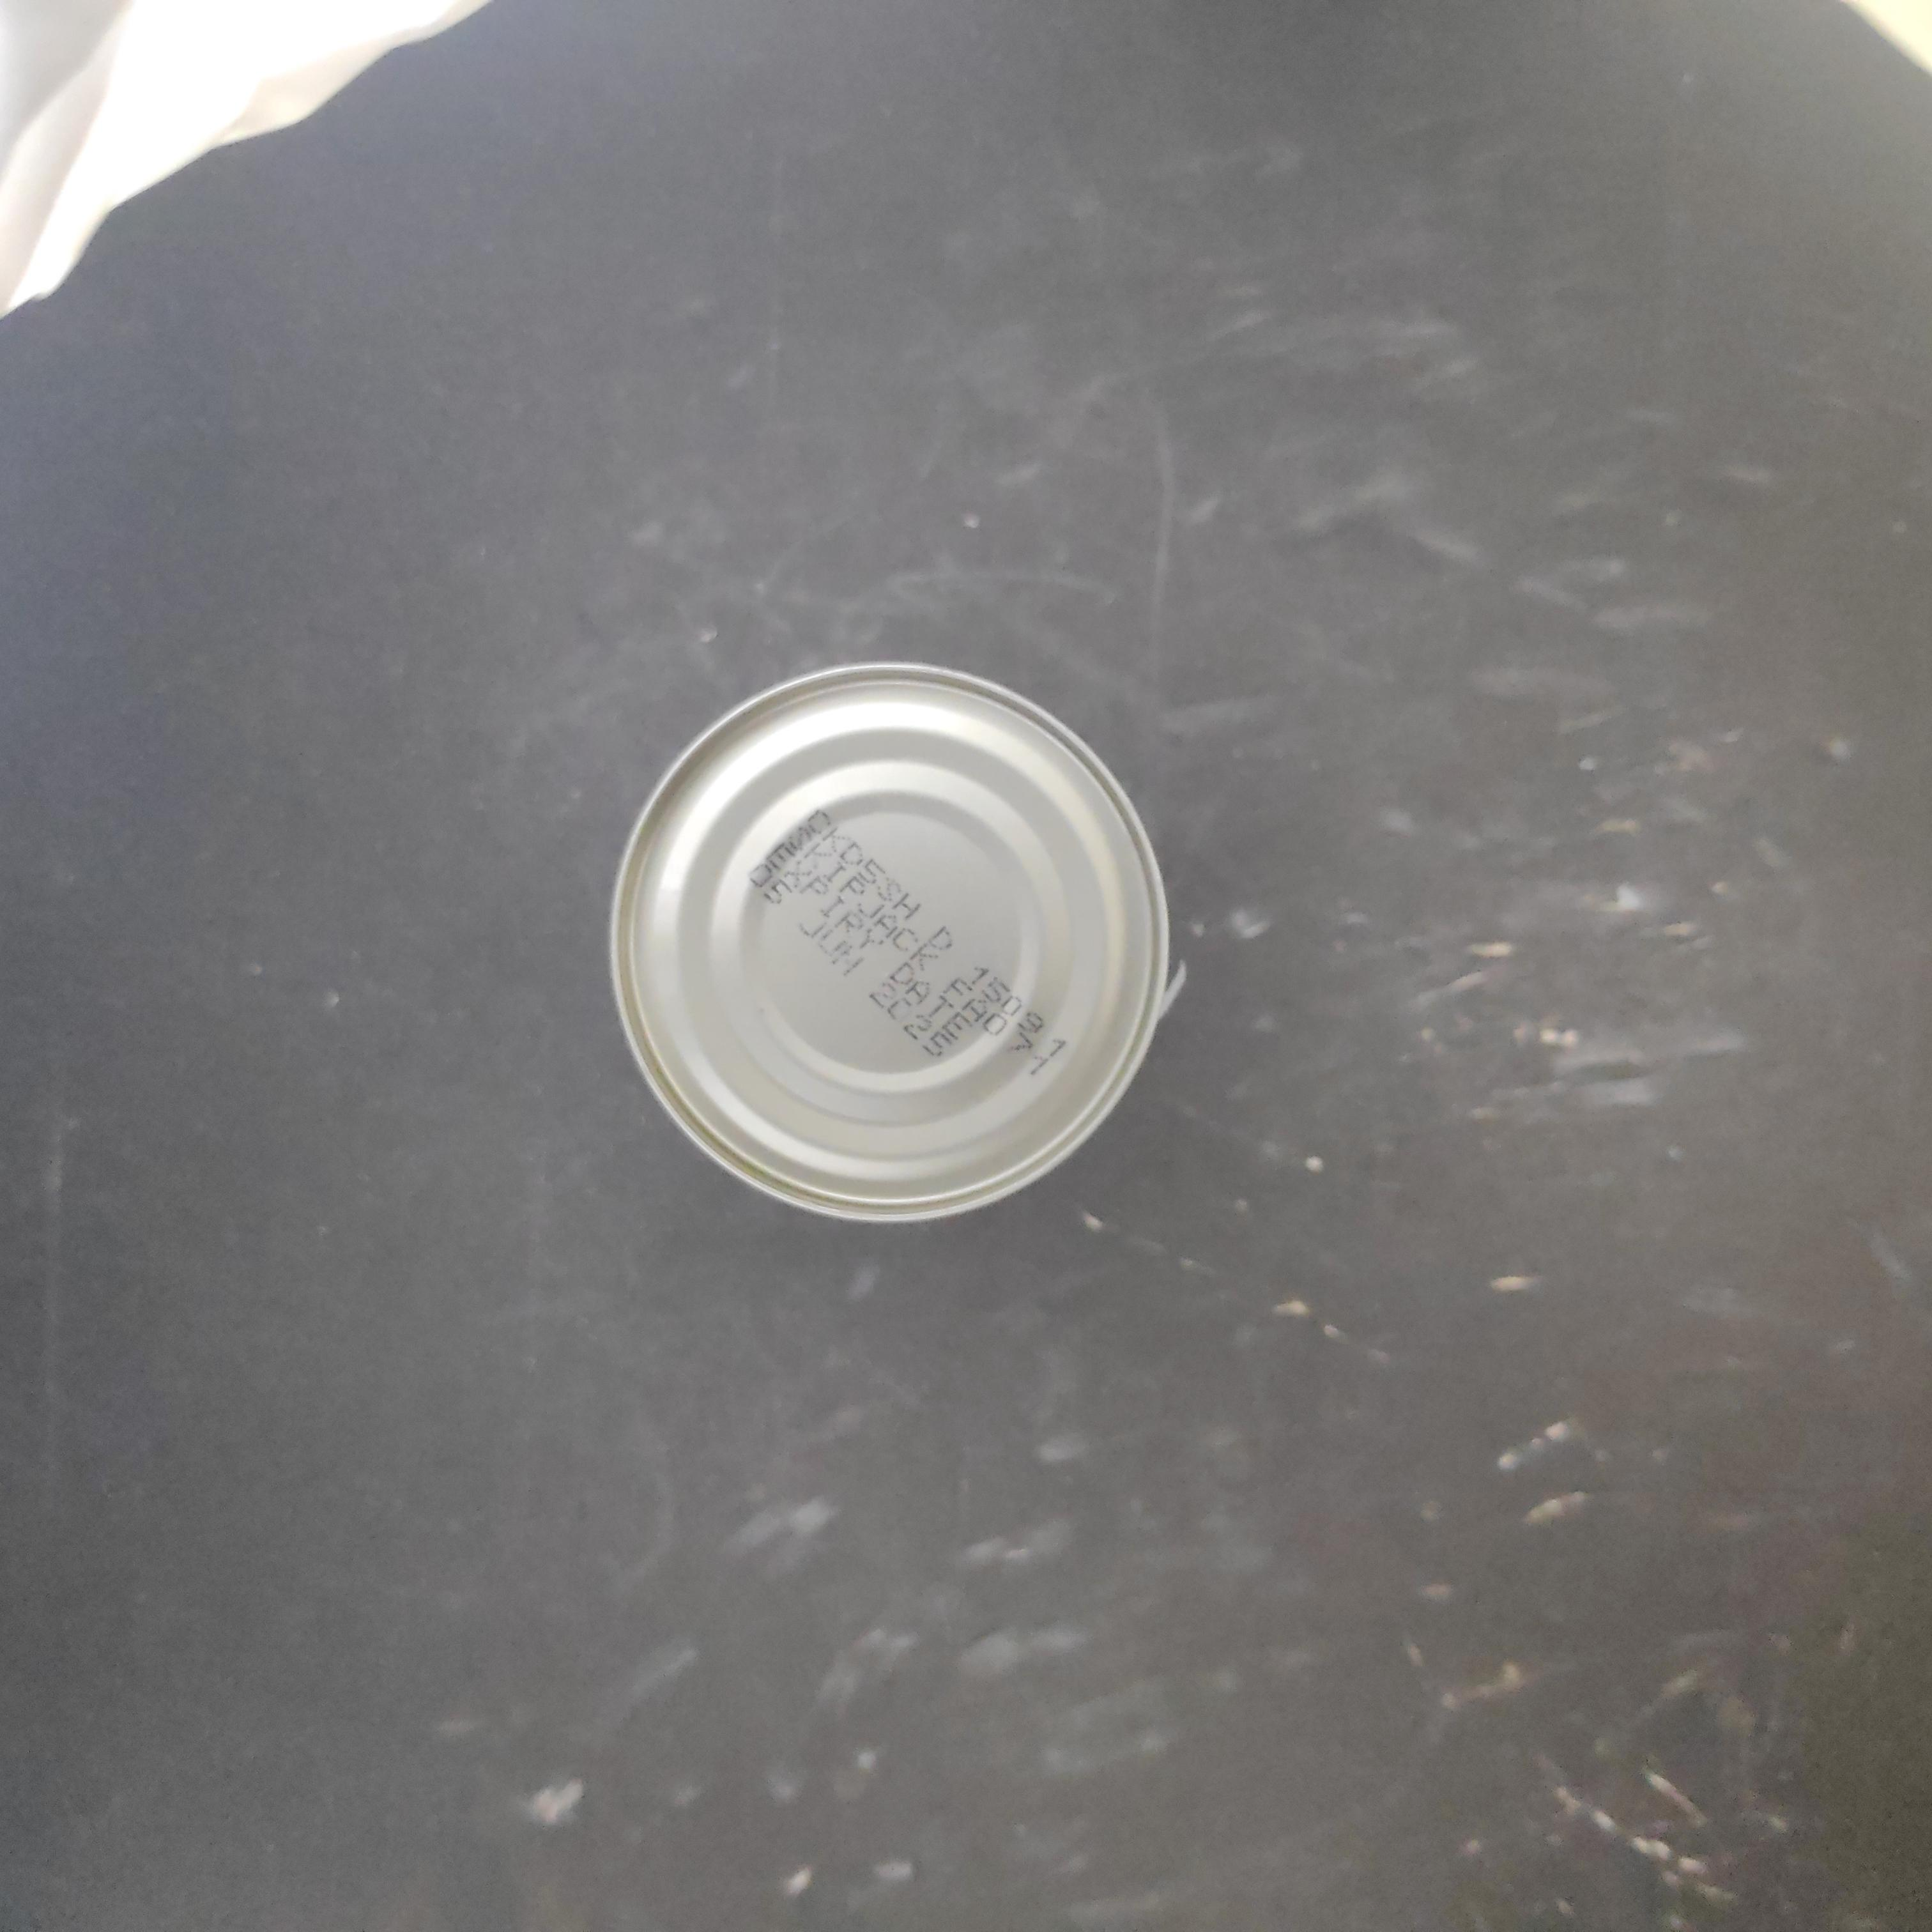No defect: (762, 706, 1324, 1271)
